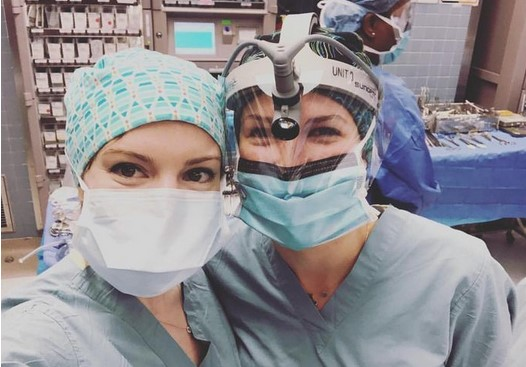face_with_mask: (59, 47, 234, 300), (217, 31, 383, 252)
